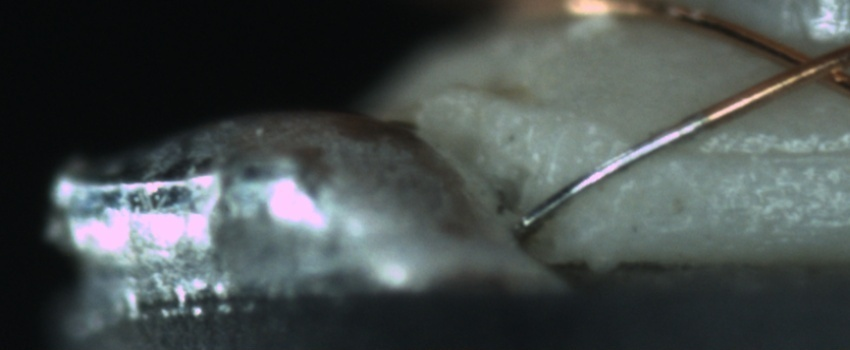CL: (762, 35, 848, 93)
DL: (684, 126, 849, 186)
TS: (519, 113, 710, 232)
